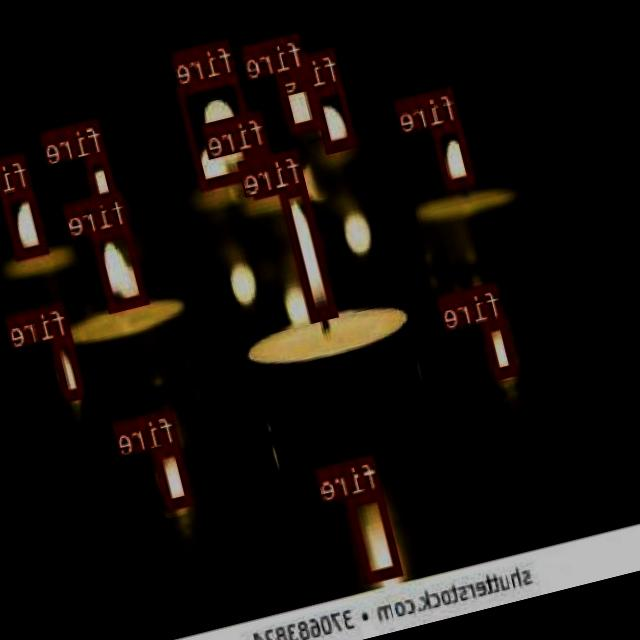fire: (176, 70, 264, 188), (278, 181, 338, 318), (347, 488, 403, 580), (92, 222, 150, 309), (0, 186, 50, 258), (312, 79, 359, 150), (276, 64, 324, 133), (432, 118, 478, 189), (154, 442, 196, 509), (481, 314, 520, 378), (52, 334, 88, 399), (245, 142, 282, 196), (84, 150, 120, 202)
